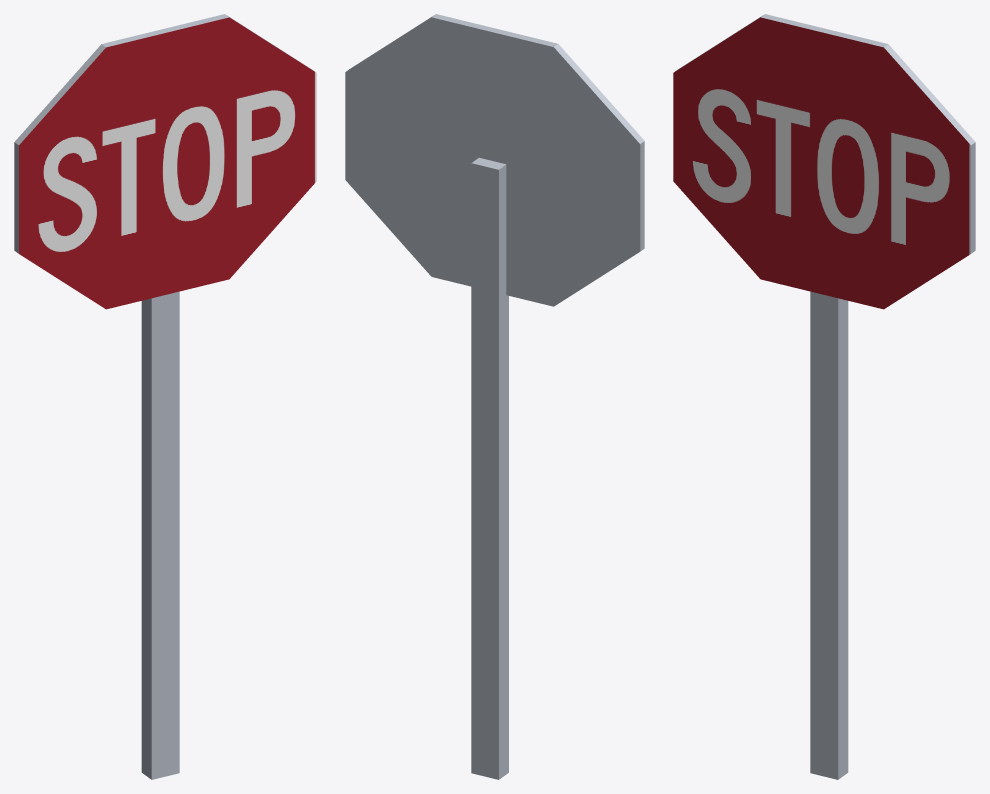
Rendered from stop-sign.fbx.
3 views of the same model, side by side, from view 1: azimuth 30°, elevation 25°; view 2: azimuth 150°, elevation 25°; view 3: azimuth 330°, elevation 25° (orthographic).
Visible parts, largest first — view 1: 1. stop-sign; view 2: 1. stop-sign; view 3: 1. stop-sign.
Part boxes in pixels (x1,y1,x2,y2): 1. stop-sign: (14,14,316,779); 1. stop-sign: (345,14,644,779); 1. stop-sign: (673,14,975,779).
Size of the model in its own units: 0.6267 by 1.5 by 0.0445.
